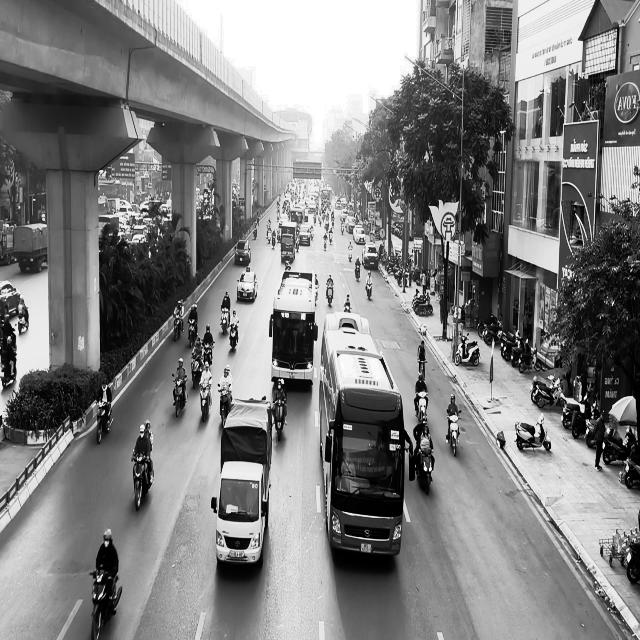bus: (269, 269, 319, 385)
car: (237, 268, 258, 301), (235, 239, 251, 265)
motorbike: (90, 566, 122, 640), (515, 412, 551, 451), (132, 453, 154, 511), (415, 447, 434, 495), (454, 333, 480, 366), (96, 399, 114, 444), (446, 410, 462, 456), (172, 373, 188, 418), (218, 383, 233, 428), (272, 399, 288, 441), (200, 379, 212, 422), (191, 356, 205, 388), (416, 391, 428, 421), (202, 341, 215, 365), (173, 312, 184, 340), (230, 321, 240, 349), (188, 320, 198, 348), (220, 308, 230, 334), (326, 285, 334, 306), (366, 280, 373, 300), (355, 263, 361, 282)
truck: (210, 396, 272, 566)
